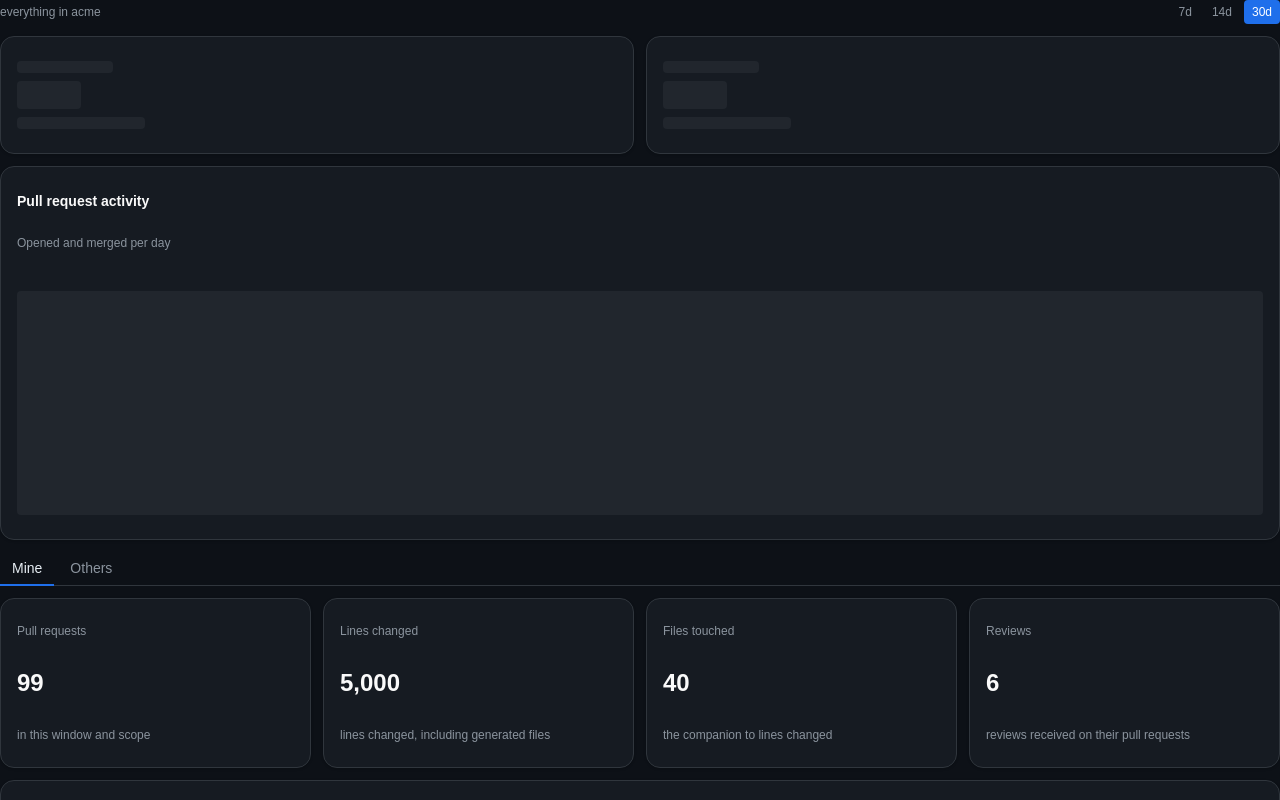
Test: StatsPage views › ranks the viewer on the leaderboard alongside everyone else
Click the tab "Others".
click(91, 569)  # box [58,552,124,586]
(page scrolled)
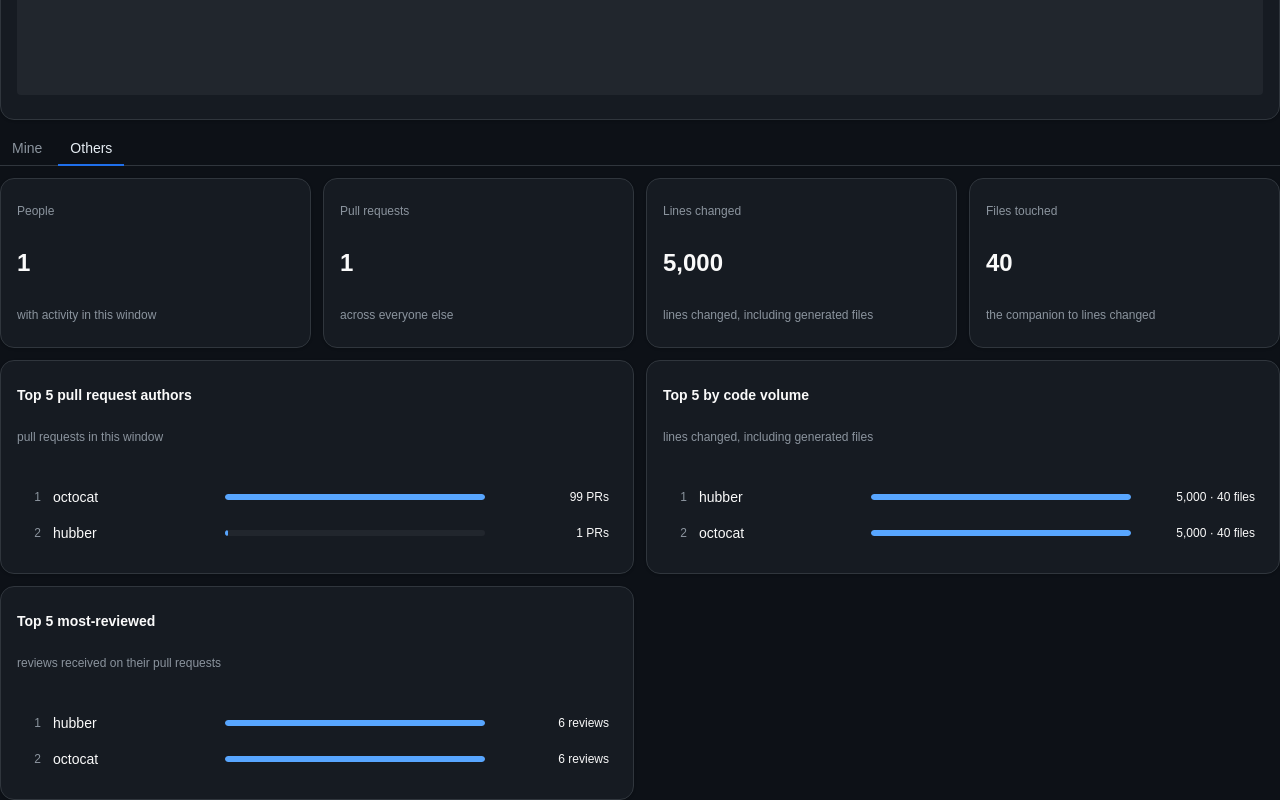
Now the text "across everyone else" is shown, box [340,308,453,322]
Now the text "99 PRs" is shown, box [570,490,609,504]
